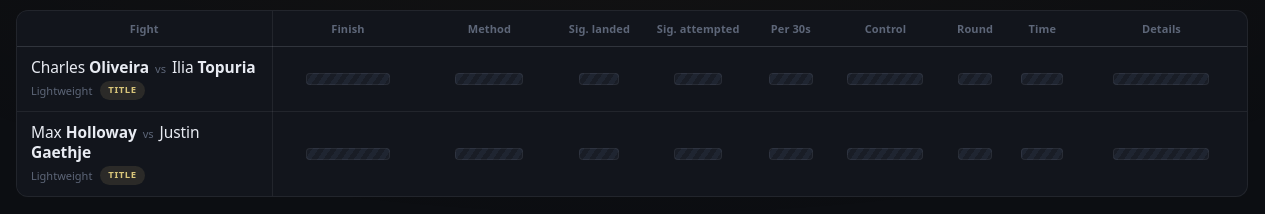
column header reveal › a fully revealed column reseals on the second header click
The width and height of the screenshot is (1265, 214).
Click the button with aria-label "reveal finish for all fights" at (348, 28), box x1=272 y1=11 x2=424 y2=46
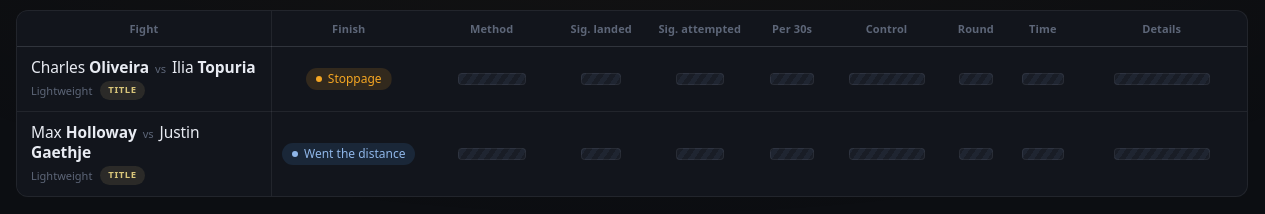
Click the button with aria-label "hide finish for all fights" at (349, 28), box x1=271 y1=11 x2=427 y2=46
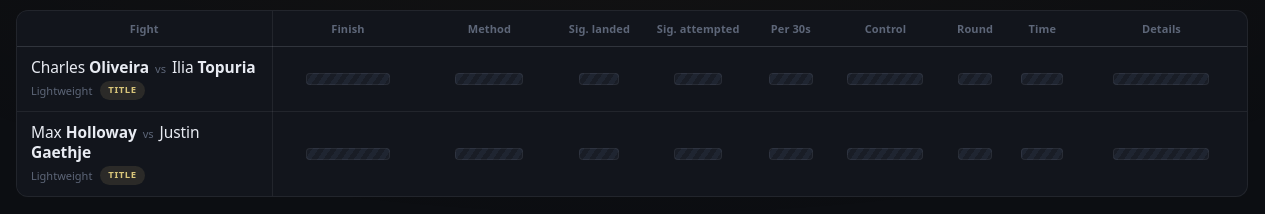
Result: the text "Stoppage" is gone
Result: the text "Went the distance" is gone
